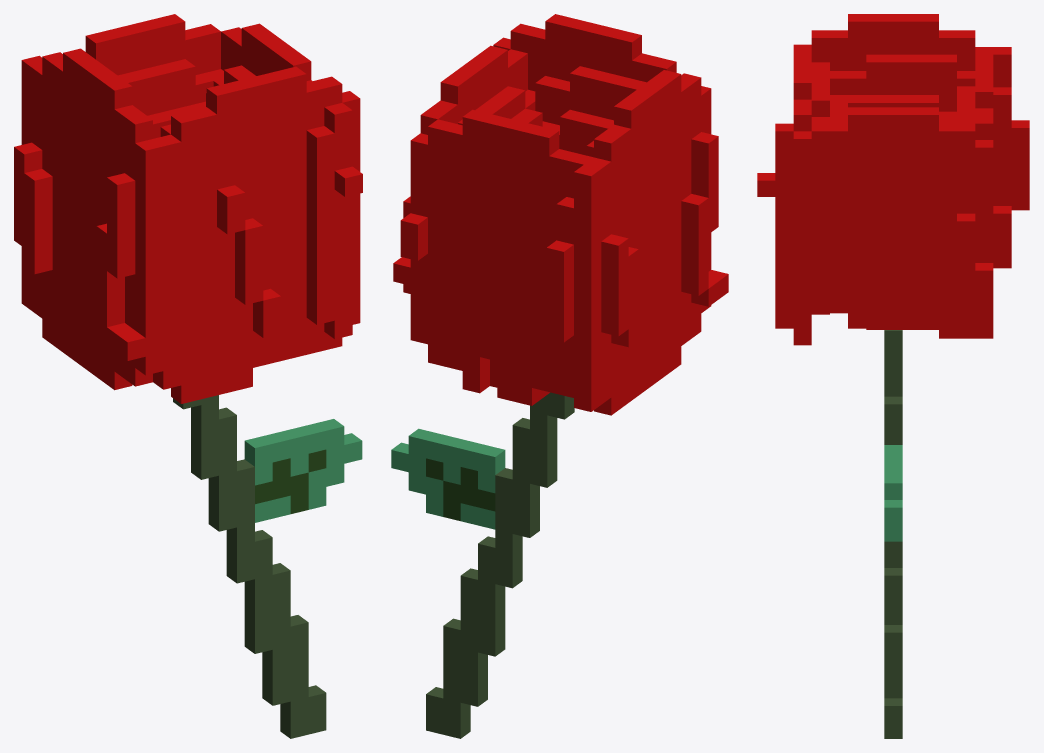
Rendered from flor.obj.
3 renders of one model, left to right at view 1: azimuth 30°, elevation 25°; view 2: azimuth 150°, elevation 25°; view 3: azimuth 270°, elevation 25°, orthographic. The views are drawn at different scales.
Size of the model in its own units: 1.6 by 3.8 by 1.5.
Materials: 1 (1 with a texture image).
